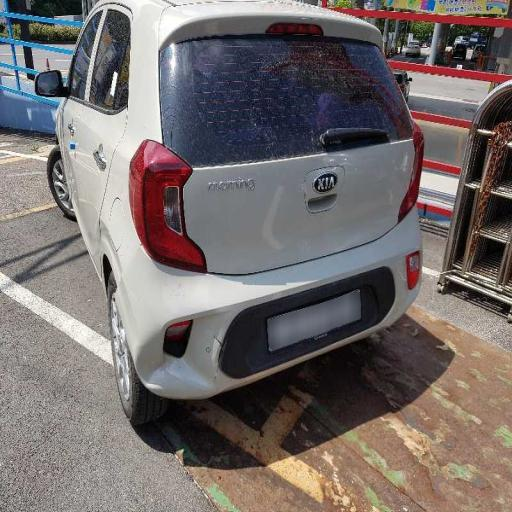dent: (137, 290, 216, 408)
scratch: (156, 40, 412, 150)
